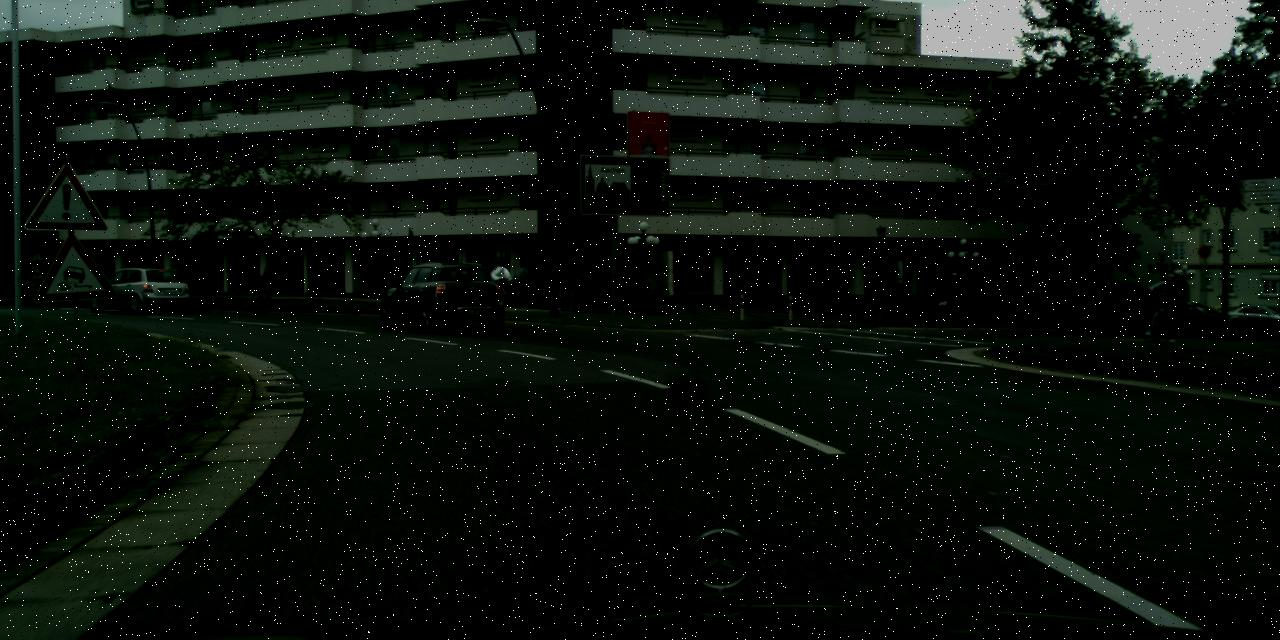ped: (1152, 272, 1179, 337)
